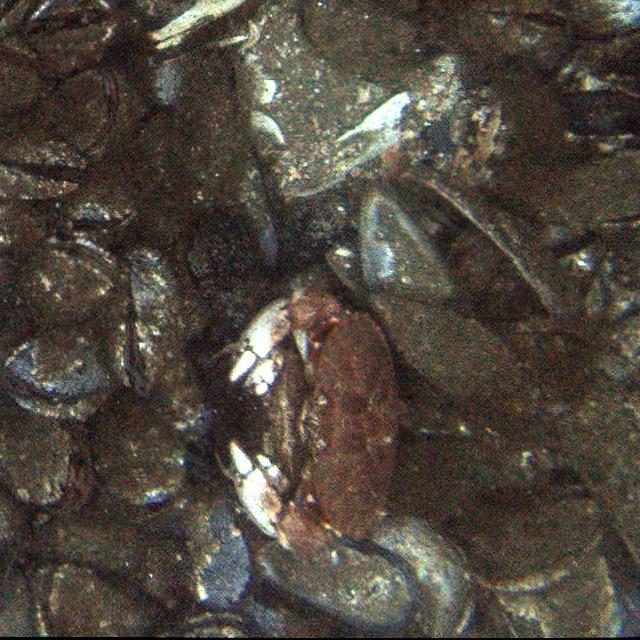crab: (223, 288, 404, 556)
